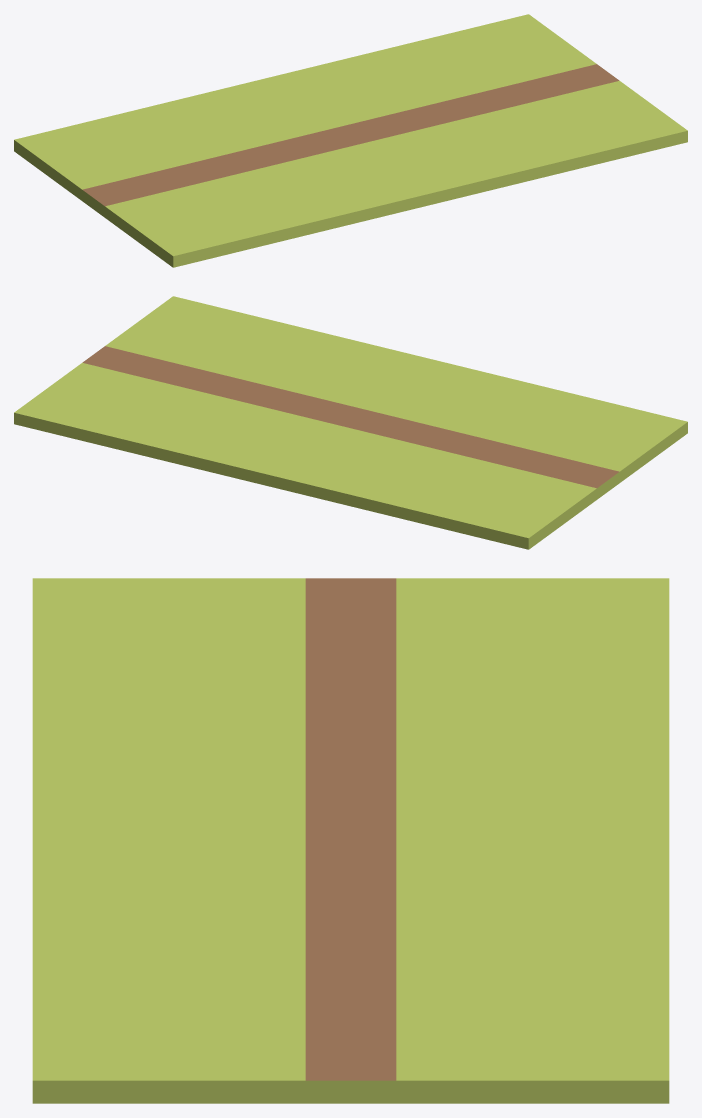
The model's file is ground.glb.
3 views of the same model, one above another, from view 1: azimuth 30°, elevation 25°; view 2: azimuth 150°, elevation 25°; view 3: azimuth 270°, elevation 25° (orthographic). The views are drawn at different scales.
Parts seen in each view (by area): view 1: Ground; view 2: Ground; view 3: Ground.
Part boxes in pixels (x1,y1,x2,y2): Ground: [14, 14, 687, 267]; Ground: [14, 296, 687, 549]; Ground: [32, 578, 669, 1103].
Bounding box in the file's own units: 14 × 0.3 × 7.5.
